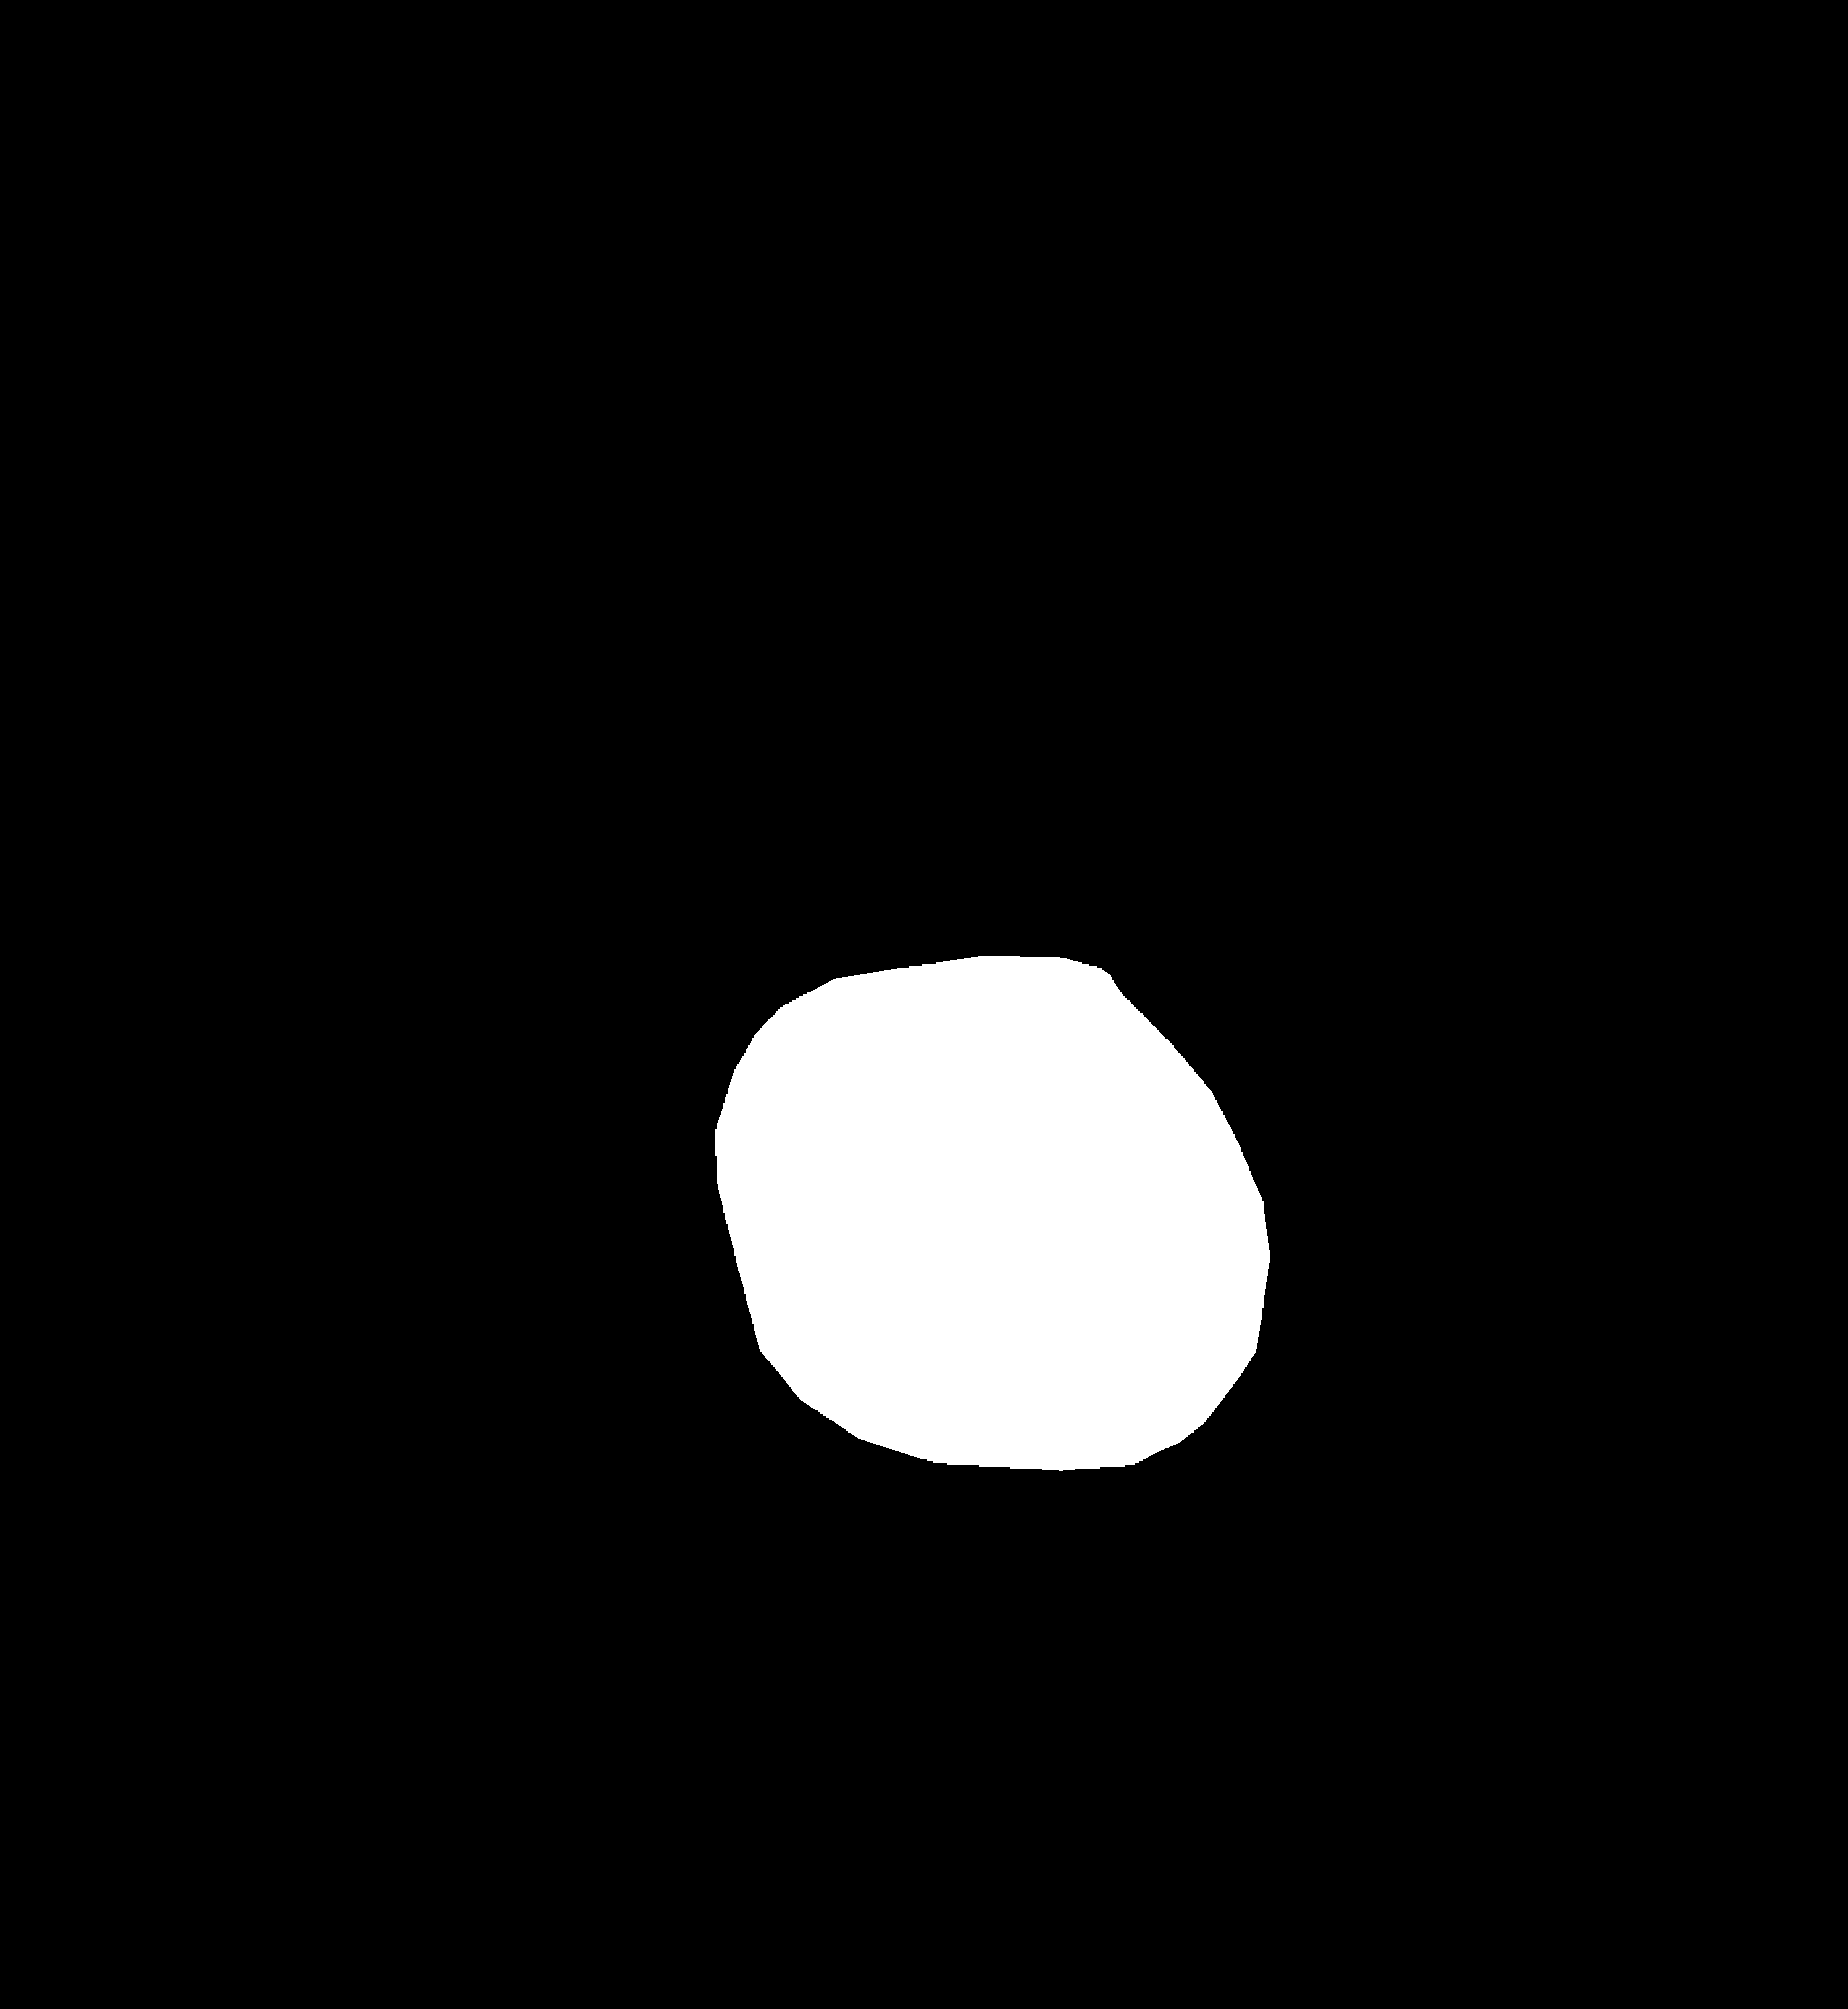heart: (721, 982, 1263, 1461)
left_lung: (269, 276, 805, 1626)
right_lung: (962, 262, 1519, 1691)
